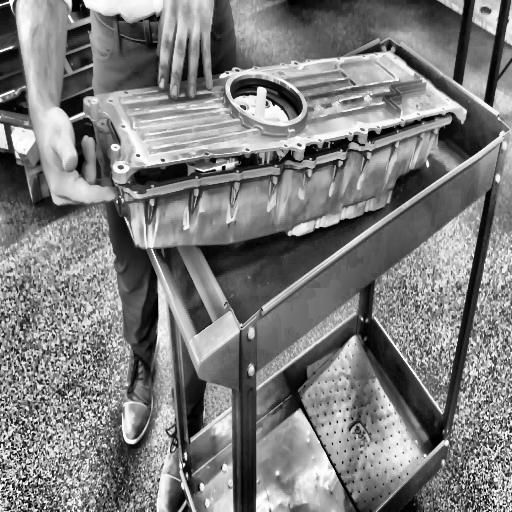bms_unit: (83, 44, 467, 203)
